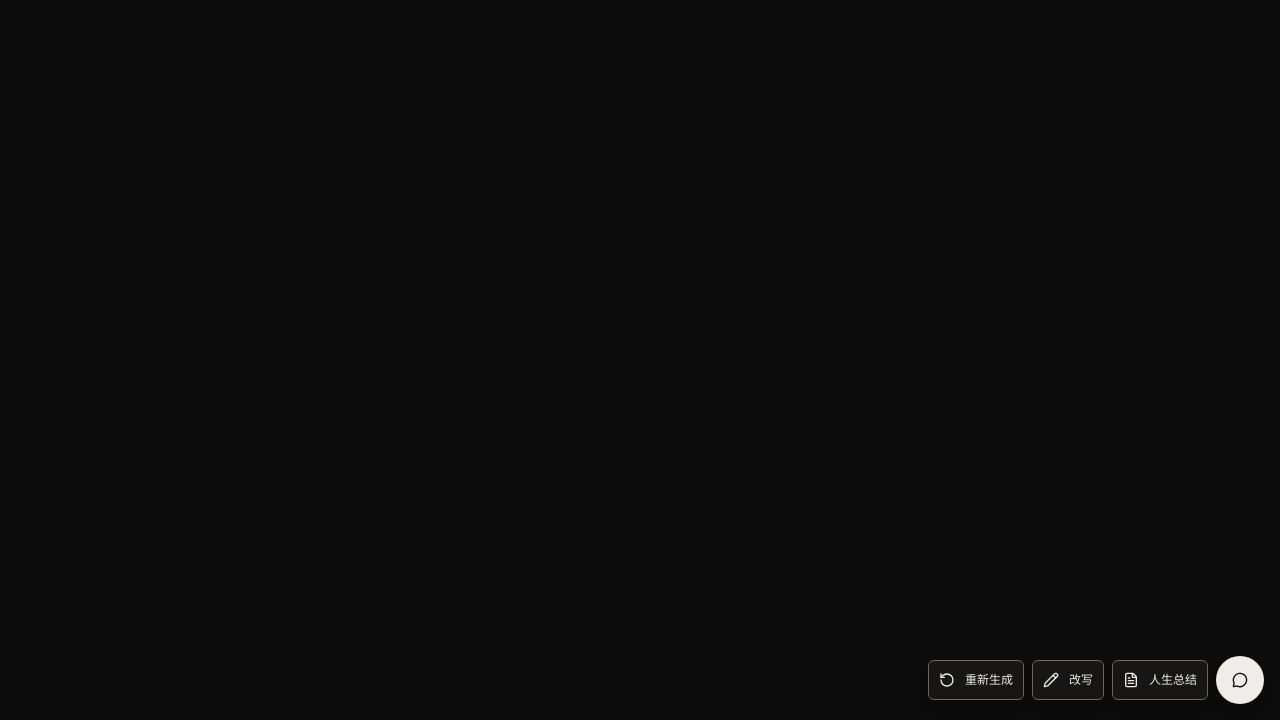
Test: ChatBar › Collapsed state › opens rewrite sheet from collapsed quick action
What coordinates should you click on to do the following:
click the button "改写"
I would click on:
 (1068, 680)
Its box is [1032, 660, 1104, 700].
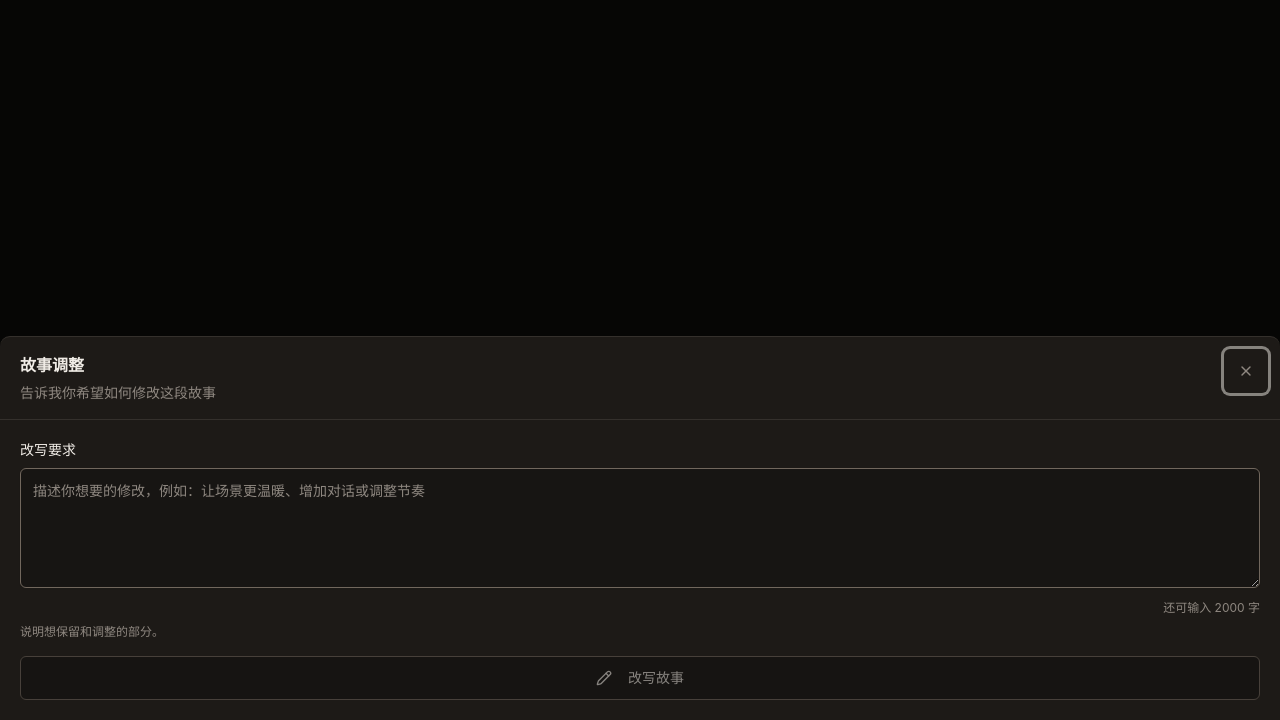
Now the dialog with test id "inline-rewrite-sheet" is shown, box [0, 336, 1279, 719]
Now the button "改写故事" is shown, box [20, 656, 1260, 700]
